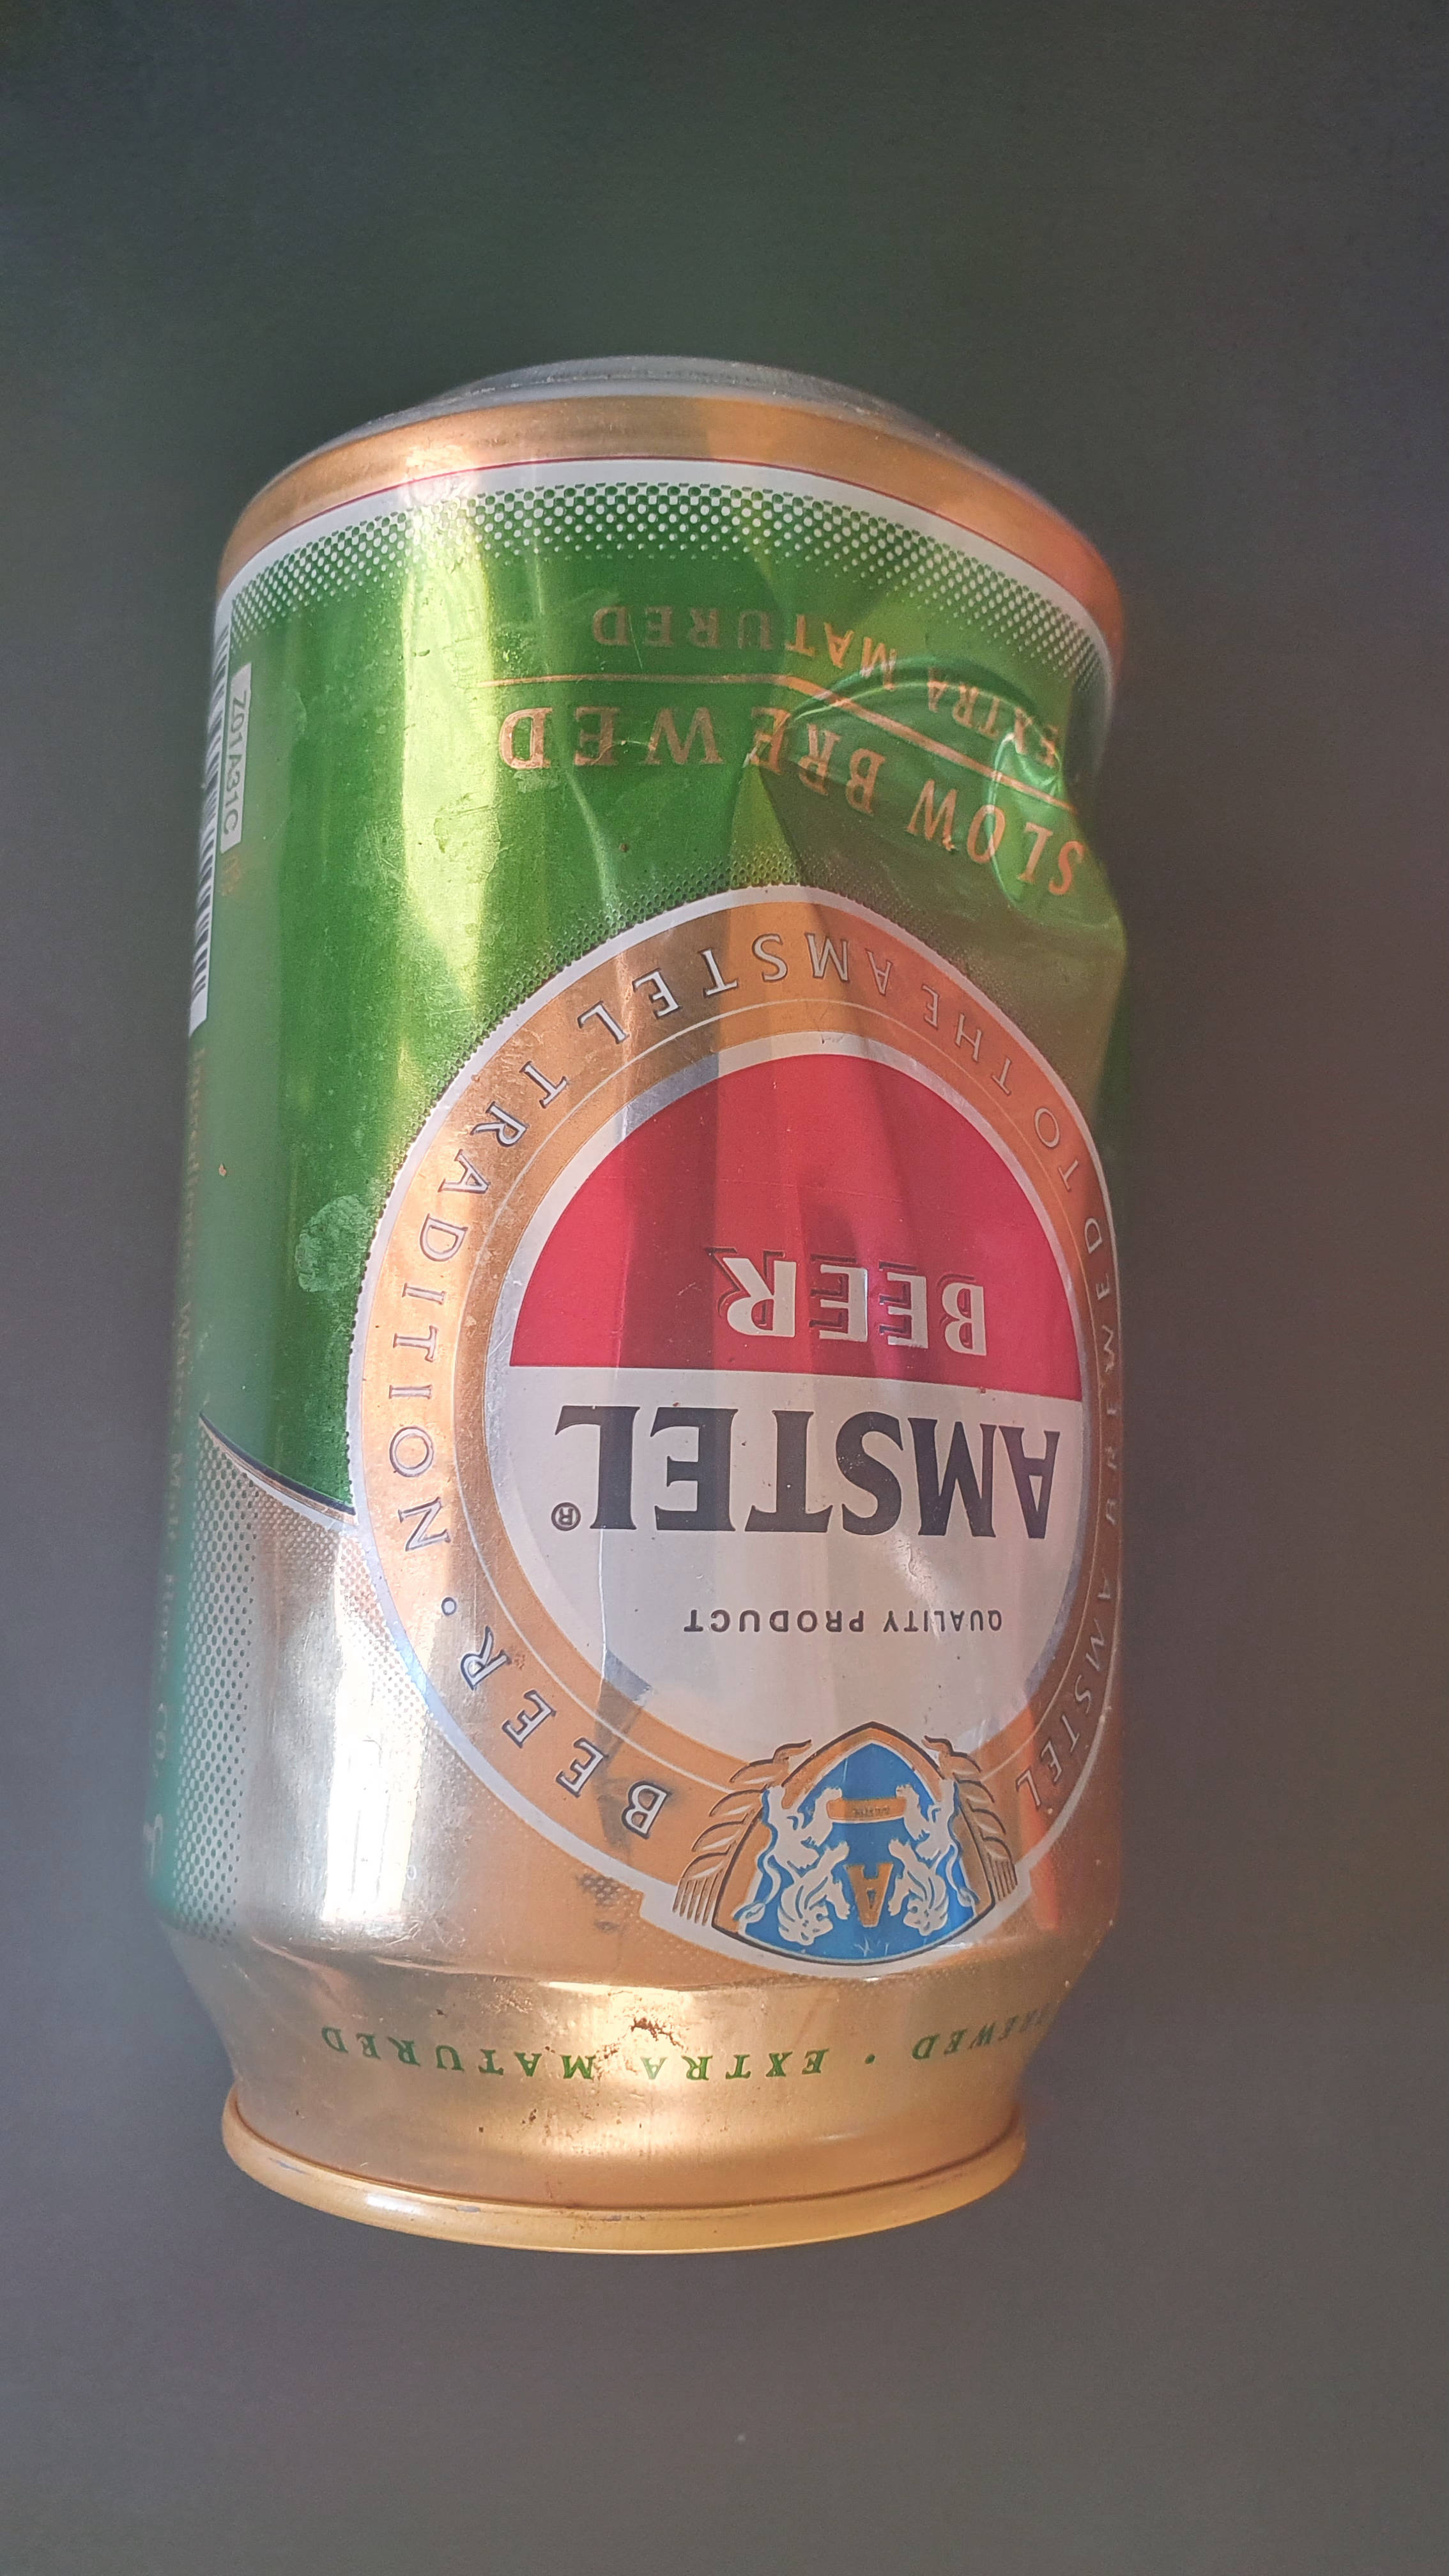metal: (127, 285, 1180, 2268)
